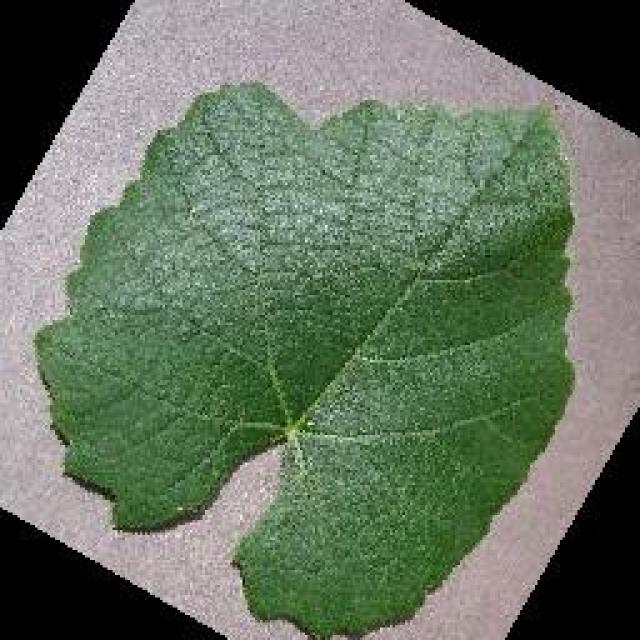Grape___healthy: (35, 82, 570, 638)
